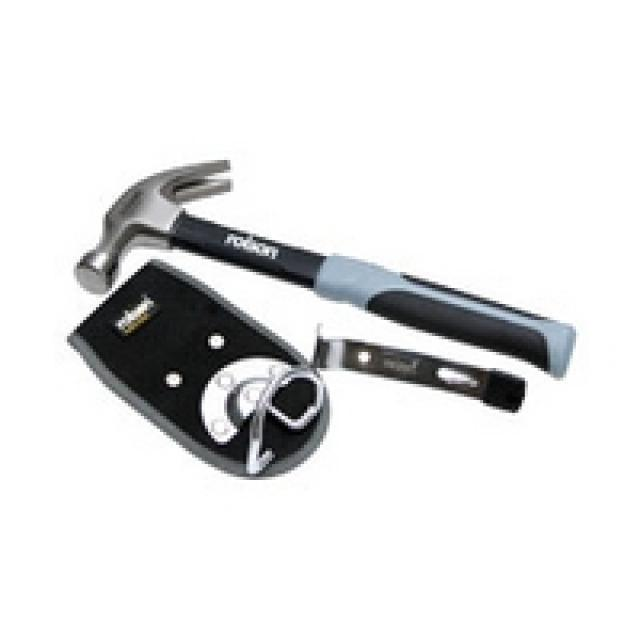hammer: (69, 140, 584, 378)
